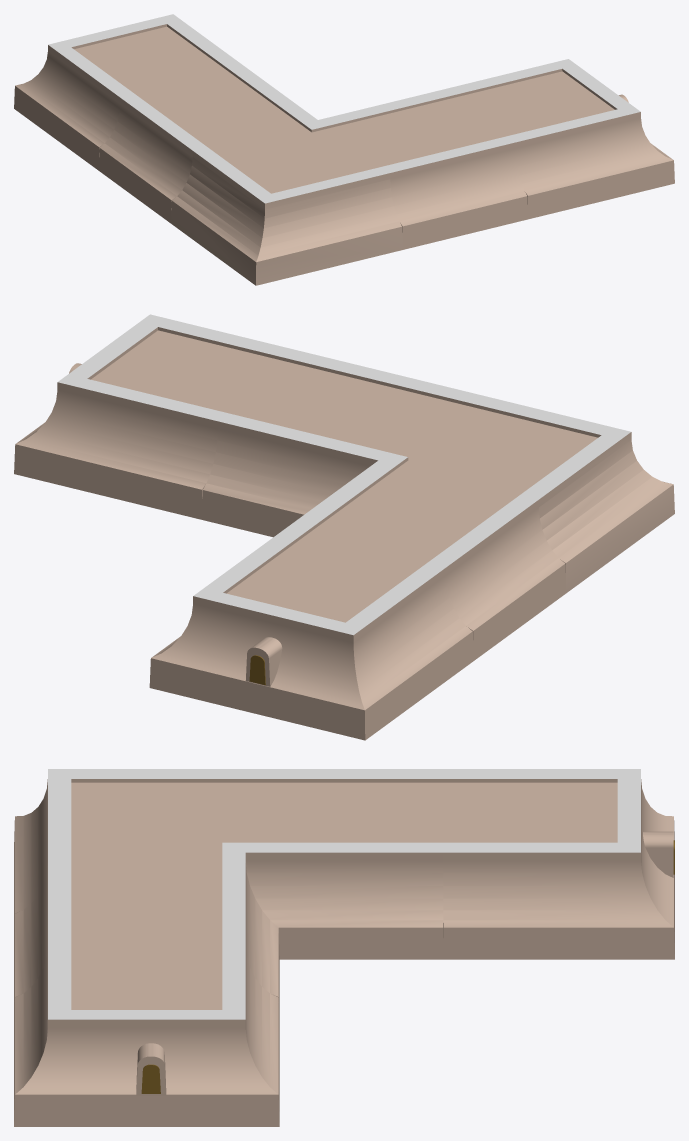
File: Houses_4.fbx
3 renders of one model, top to bottom at view 1: azimuth 30°, elevation 25°; view 2: azimuth 150°, elevation 25°; view 3: azimuth 270°, elevation 25°, orthographic. The views are drawn at different scales.
Visible parts, largest first — view 1: DCHouse_Corner.003, DCHouse_U.008, DCHouse_I.001, DCHouse_U.009, DCHouse_I.002; view 2: DCHouse_U.009, DCHouse_U.008, DCHouse_I.001, DCHouse_Corner.003, DCHouse_I.002, HouseDoor.005; view 3: DCHouse_U.008, DCHouse_U.009, DCHouse_I.002, DCHouse_I.001, DCHouse_Corner.003, HouseDoor.006, HouseDoor.005.
Boxes of the visible parts, bbox=[...] form: DCHouse_Corner.003: bbox=[171, 120, 403, 285]; DCHouse_U.008: bbox=[443, 59, 674, 219]; DCHouse_I.001: bbox=[318, 89, 528, 249]; DCHouse_U.009: bbox=[14, 14, 244, 170]; DCHouse_I.002: bbox=[99, 67, 317, 223]; DCHouse_U.009: bbox=[149, 528, 473, 740]; DCHouse_U.008: bbox=[14, 314, 310, 519]; DCHouse_I.001: bbox=[202, 353, 470, 537]; DCHouse_Corner.003: bbox=[378, 392, 674, 593]; DCHouse_I.002: bbox=[286, 460, 565, 660]; HouseDoor.005: bbox=[245, 637, 282, 686]; DCHouse_U.008: bbox=[14, 936, 279, 1126]; DCHouse_U.009: bbox=[443, 769, 674, 959]; DCHouse_I.002: bbox=[245, 769, 443, 959]; DCHouse_I.001: bbox=[14, 852, 279, 1024]; DCHouse_Corner.003: bbox=[14, 769, 245, 939]; HouseDoor.006: bbox=[136, 1043, 166, 1095]; HouseDoor.005: bbox=[643, 831, 674, 877].
Bounding box in the file's own units: 502 × 502 × 77.66.
